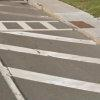Crosswalk: (3, 10, 84, 100)
